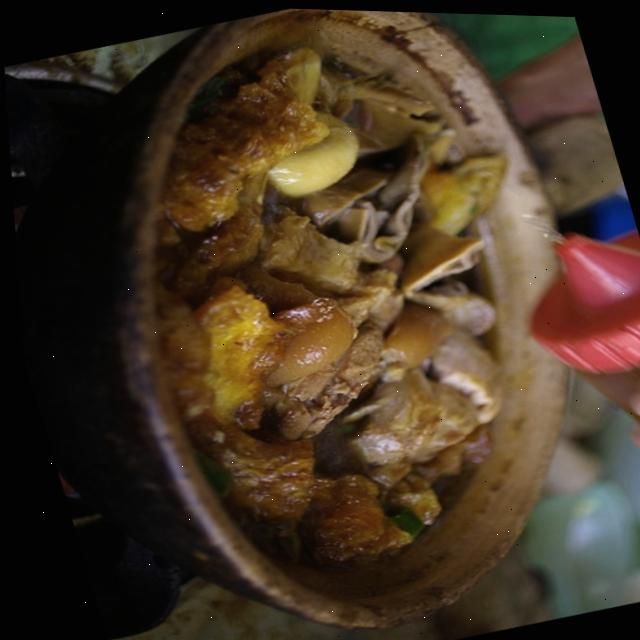汤锅炖物: (47, 1, 638, 605)
